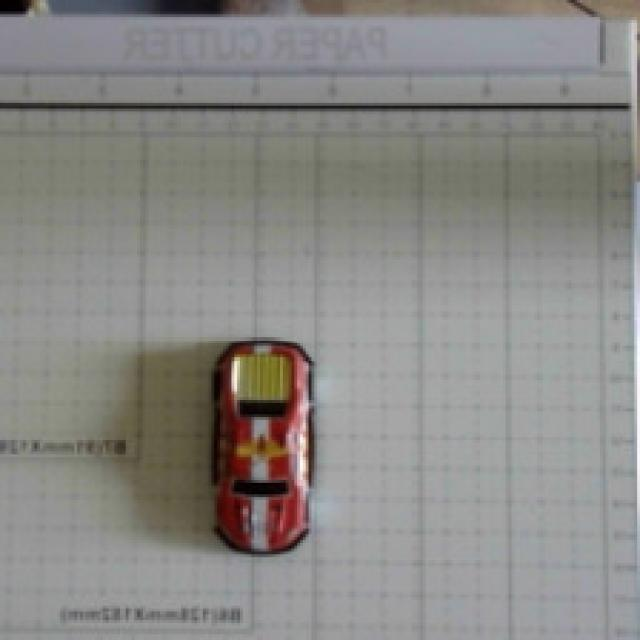Red Car: (157, 309, 380, 592)
